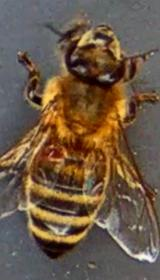varroa_mite: (30, 132, 78, 173)
